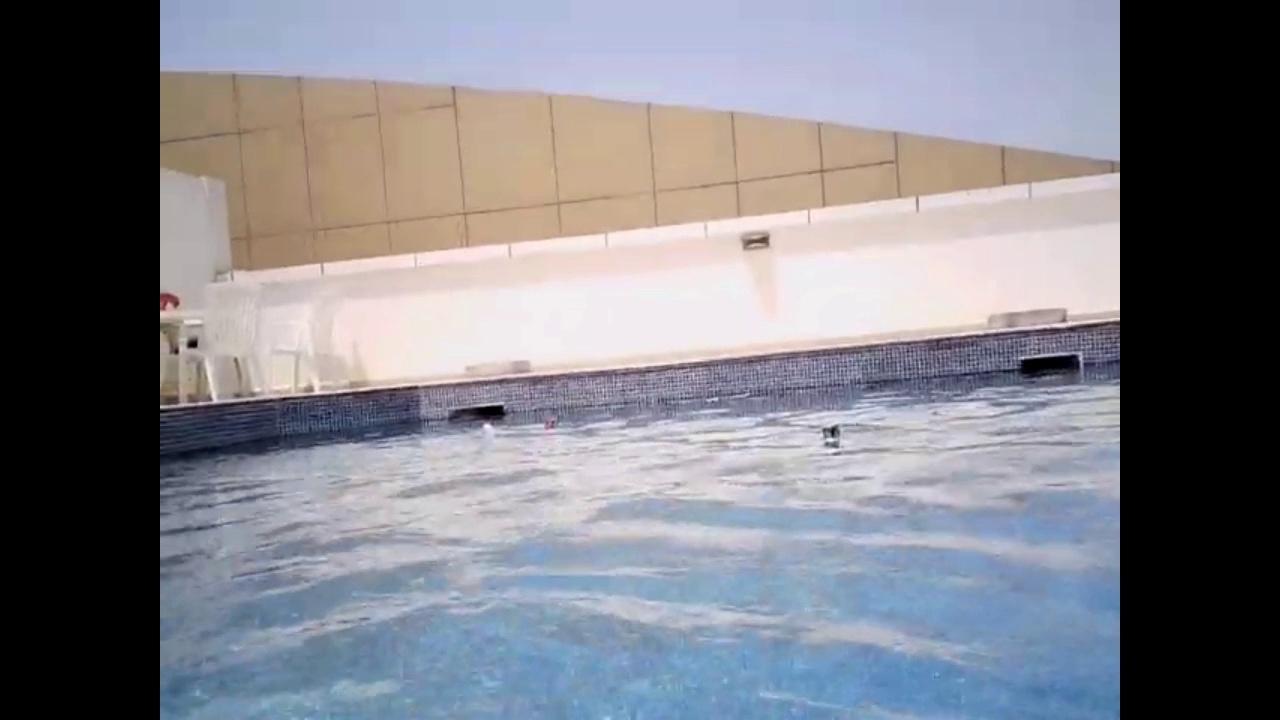debris: (817, 419, 844, 447), (540, 415, 561, 429), (480, 422, 496, 436)
